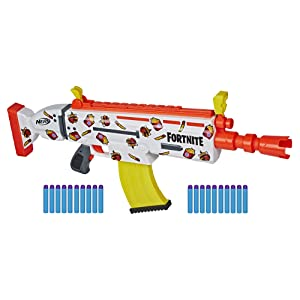Arma Falsa: (4, 85, 293, 216)
